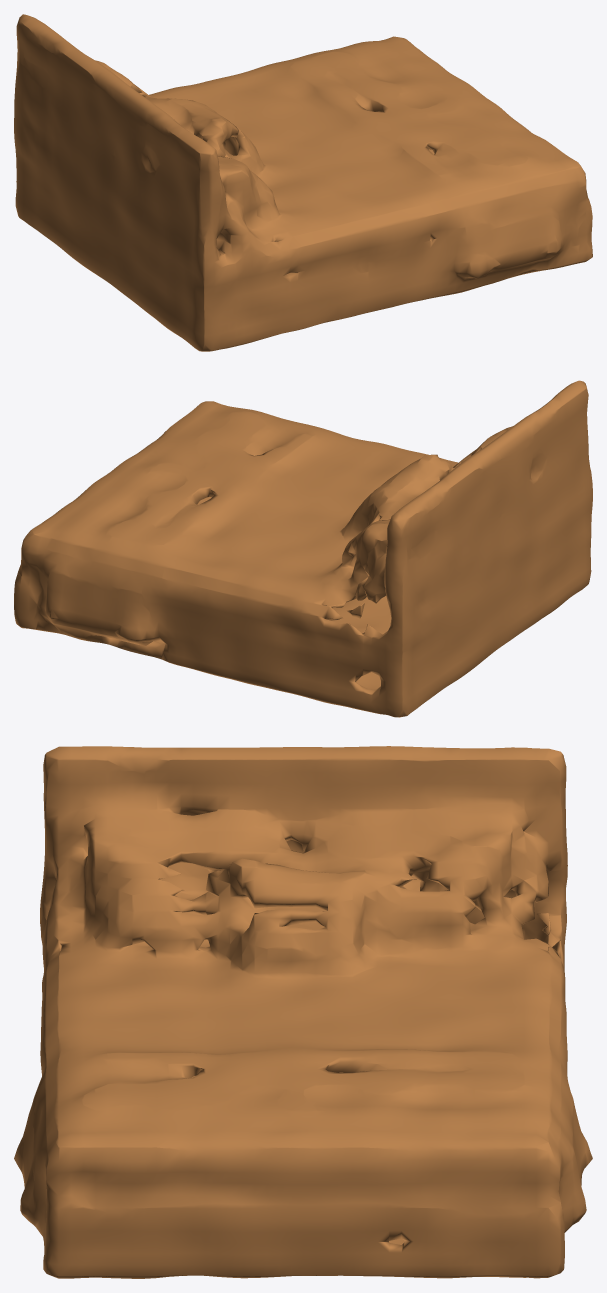
The model's file is bed_1_1.obj.
The picture shows the model from 3 angles, top to bottom: view 1: azimuth 30°, elevation 25°; view 2: azimuth 150°, elevation 25°; view 3: azimuth 270°, elevation 25°; orthographic projection. The views are drawn at different scales.
Bounding box in the file's own units: 0.7954 × 0.4001 × 0.7389.
